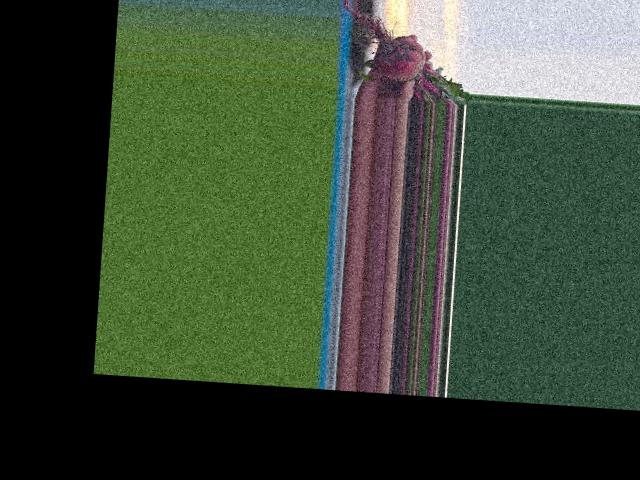beet: (338, 5, 474, 105)
